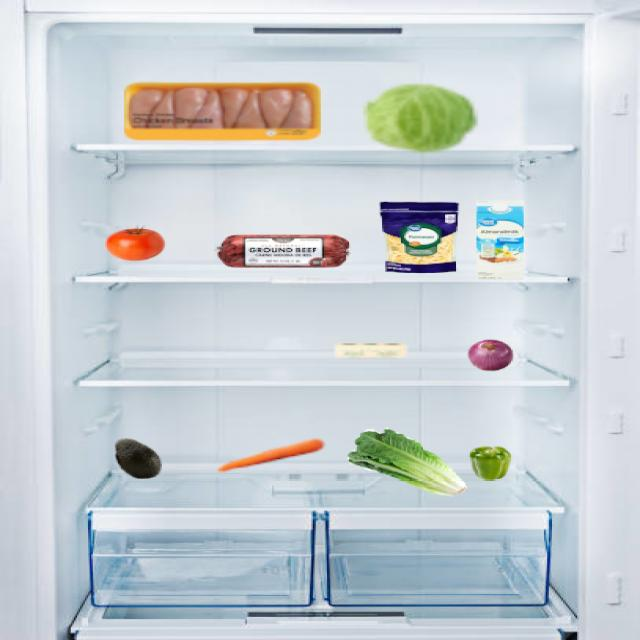avocado: (110, 435, 168, 480)
beef: (215, 233, 354, 266)
bell pepper: (470, 445, 516, 479)
butter: (333, 338, 411, 362)
cabbage: (369, 78, 476, 154)
carrot: (216, 437, 329, 477)
cheese: (378, 200, 464, 274)
chicken: (124, 79, 323, 144)
lettuce: (348, 426, 472, 499)
milk: (474, 199, 527, 283)
onion: (462, 338, 516, 370)
tomato: (108, 224, 169, 261)
